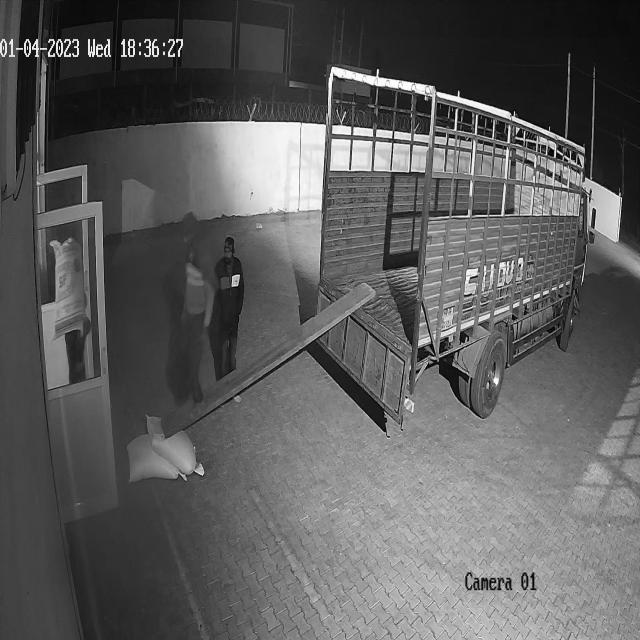sack: (50, 236, 86, 342), (145, 413, 204, 476), (126, 434, 186, 482)
